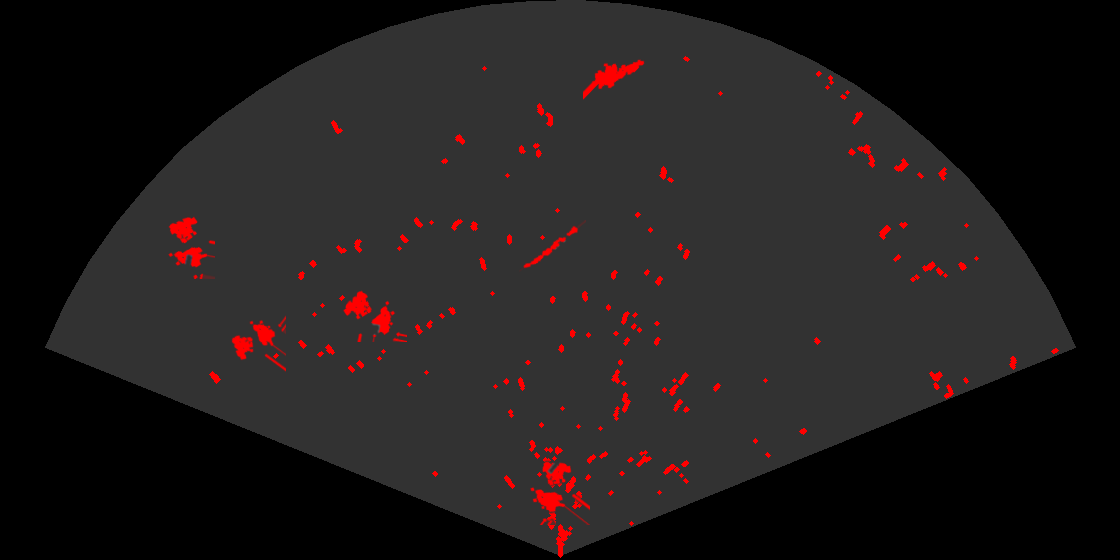cage: (529, 460, 590, 525), (341, 289, 407, 342), (230, 314, 286, 374), (167, 215, 215, 279)
chain: (519, 220, 586, 273)
frogman: (583, 58, 646, 101)
